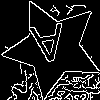A: (28, 23, 69, 73)
